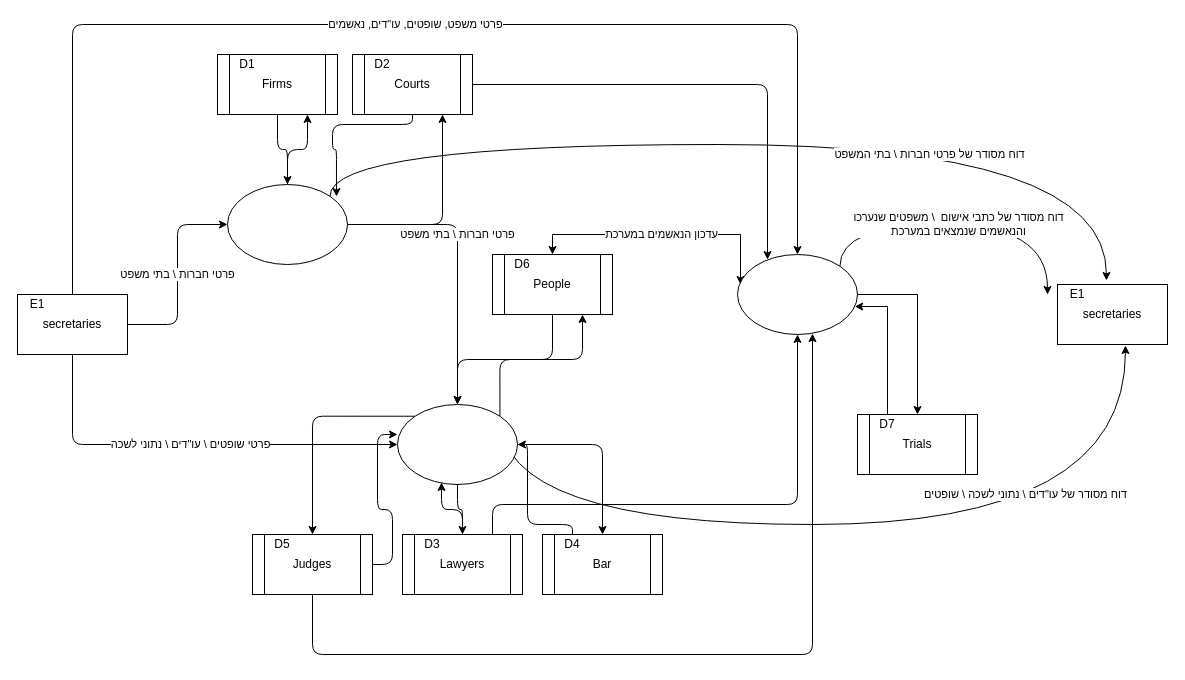
This 1185x680 diagram has some shape labels left out. The centre of each missing label's shape, as x and y in pixels:
טיפול באנשי מקצוע הנמצאים במערכת ( שופטים ועו"דים ): the point at 457,444
טיפול במשפטים: the point at 797,294
טיפול בפרטי חברות \ בתי משפט: the point at 287,224
